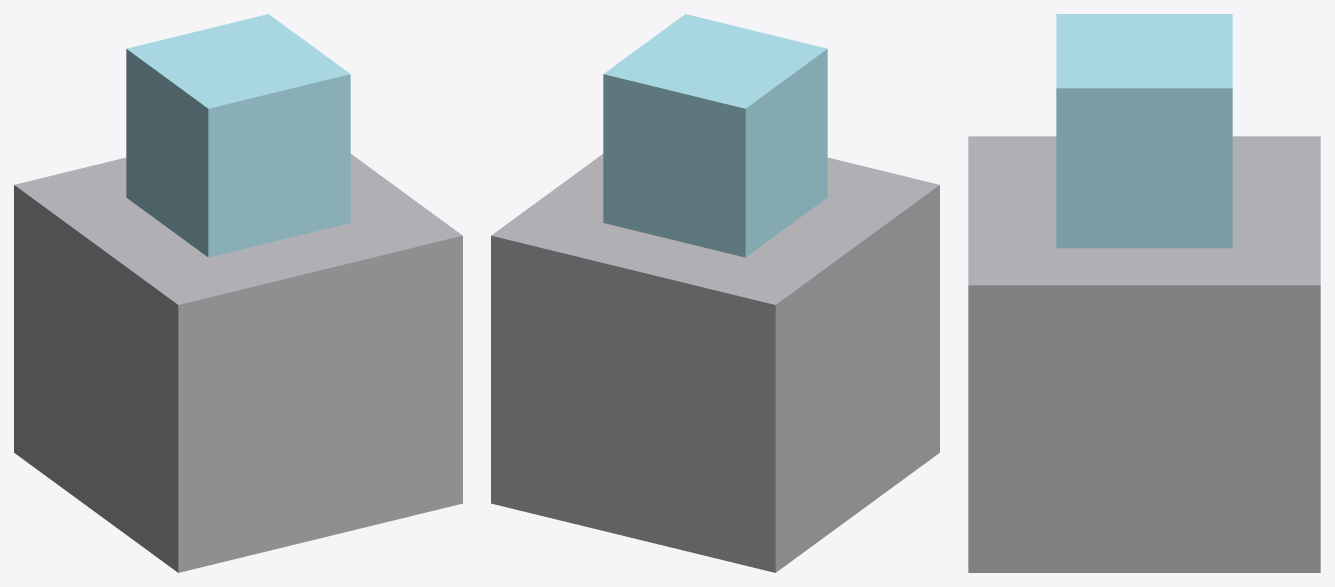
File: Prop_DS_HerbCompressor.glb
3 renders of one model, left to right at view 1: azimuth 30°, elevation 25°; view 2: azimuth 150°, elevation 25°; view 3: azimuth 270°, elevation 25°, orthographic. The views are drawn at different scales.
Parts seen in each view (by area): view 1: Prop_DS_HerbCompressor; view 2: Prop_DS_HerbCompressor; view 3: Prop_DS_HerbCompressor.
Part boxes in pixels (x1=…): Prop_DS_HerbCompressor: x1=14, y1=14, x2=462, y2=572; Prop_DS_HerbCompressor: x1=491, y1=14, x2=939, y2=572; Prop_DS_HerbCompressor: x1=968, y1=14, x2=1320, y2=572.
Bounding box in the file's own units: 1 × 1.4 × 1.
